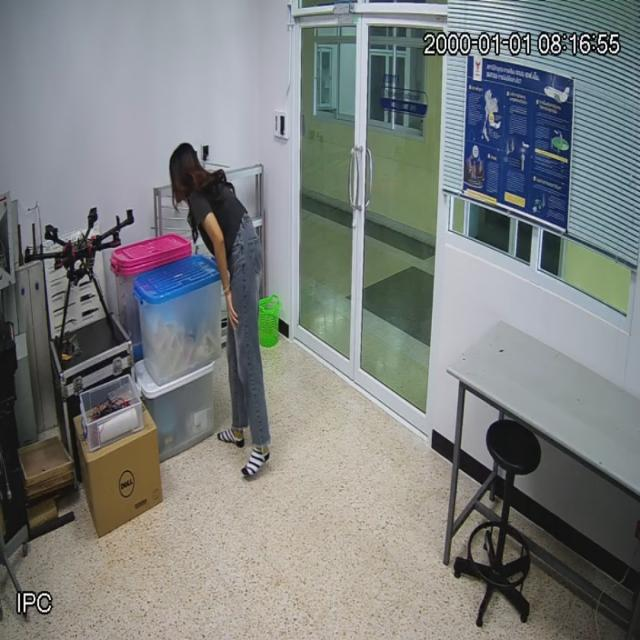normal: (172, 144, 272, 475)
